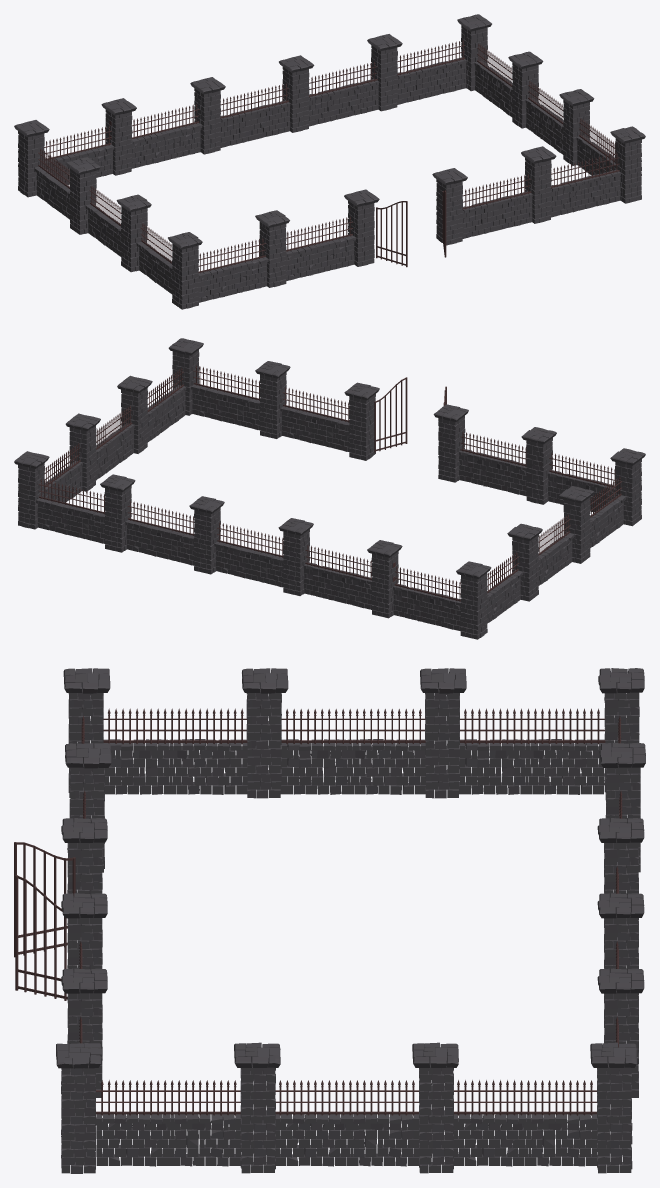
Rendered from cemetry_wall.fbx.
The picture shows the model from 3 angles, top to bottom: view 1: azimuth 30°, elevation 25°; view 2: azimuth 150°, elevation 25°; view 3: azimuth 270°, elevation 25°; orthographic projection. The views are drawn at different scales.
Parts seen in each view (by area): view 1: cemetry_wall1.004; view 2: cemetry_wall1.004; view 3: cemetry_wall1.004.
Part boxes in pixels (<box>): cemetry_wall1.004: <box>14,14,645,309</box>; cemetry_wall1.004: <box>14,338,645,639</box>; cemetry_wall1.004: <box>14,668,645,1173</box>.
Size of the model in its own units: 5529 by 783 by 3740.
